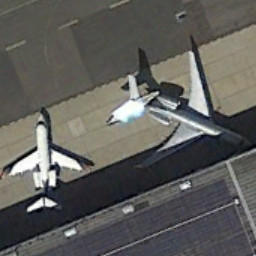Airplane: (101, 40, 256, 188), (1, 102, 93, 216)
